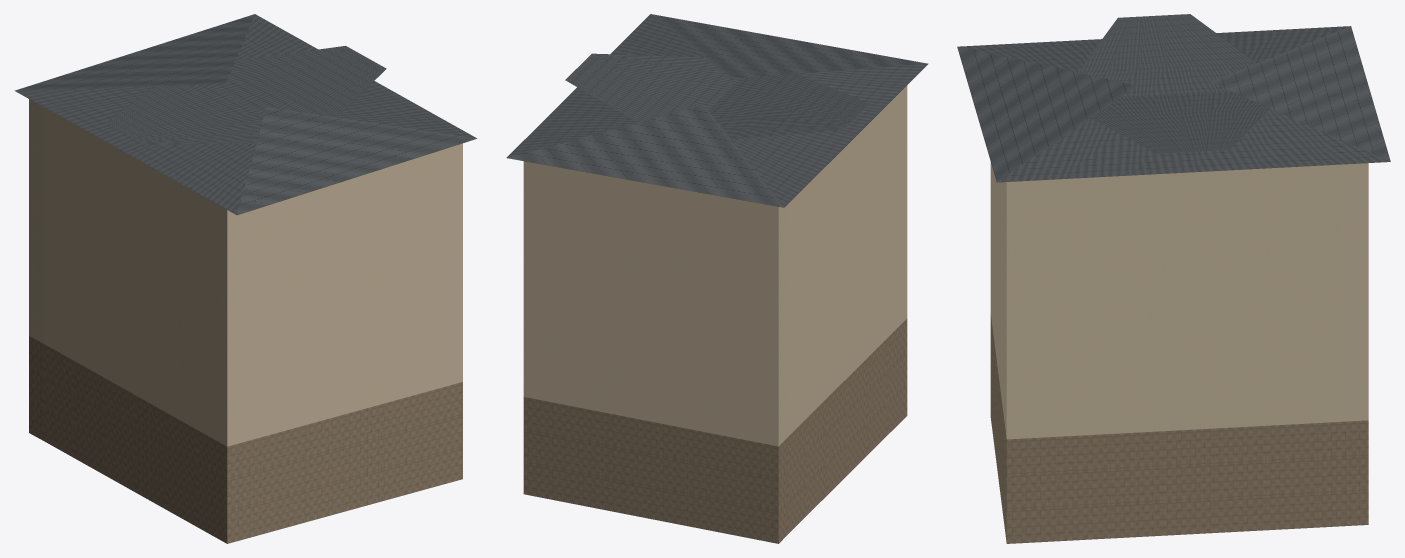
Rendered from bld_c33_47_242.gltf.
The picture shows the model from 3 angles, left to right: view 1: azimuth 30°, elevation 25°; view 2: azimuth 150°, elevation 25°; view 3: azimuth 270°, elevation 25°; orthographic projection. The views are drawn at different scales.
Visible parts, largest first — view 1: bld_c33_47_242; view 2: bld_c33_47_242; view 3: bld_c33_47_242.
Boxes of the visible parts, bbox=[...] form: bld_c33_47_242: bbox=[14, 14, 476, 543]; bld_c33_47_242: bbox=[506, 14, 928, 543]; bld_c33_47_242: bbox=[957, 14, 1390, 543].
Size of the model in its own units: 16.38 by 18.9 by 19.18.
Materials: 3 (3 with a texture image).
